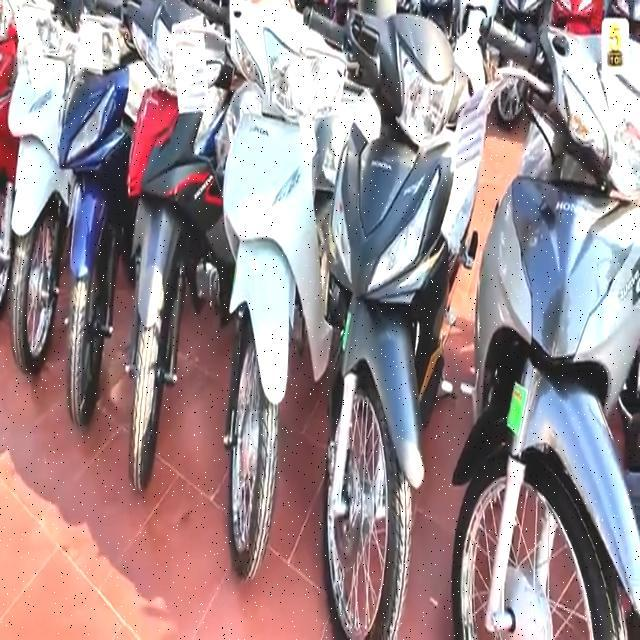motorcycle: (463, 22, 640, 640), (317, 0, 473, 638), (1, 0, 142, 493), (218, 21, 317, 589), (112, 16, 214, 504)
